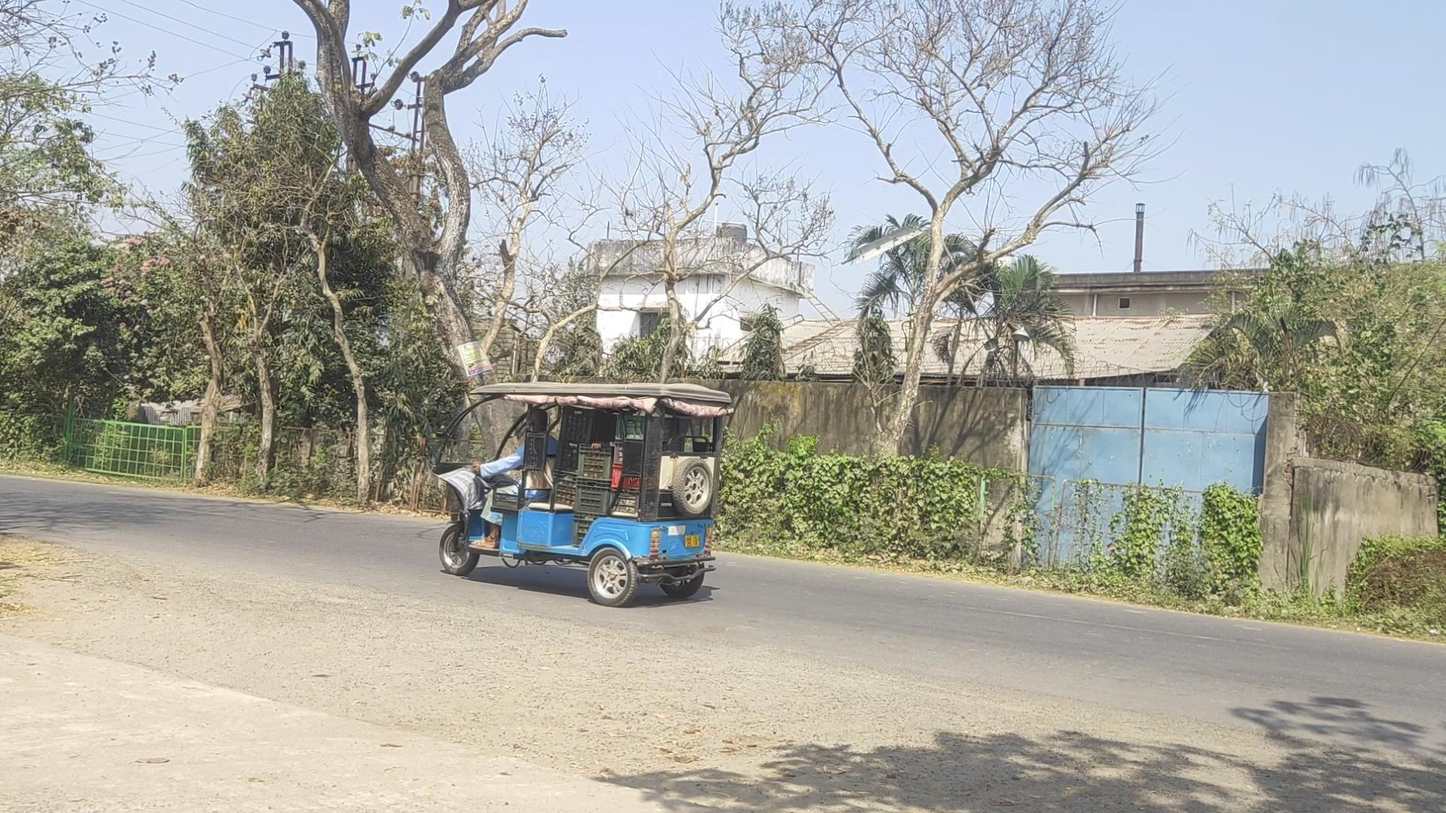Auto: (433, 382, 733, 608)
